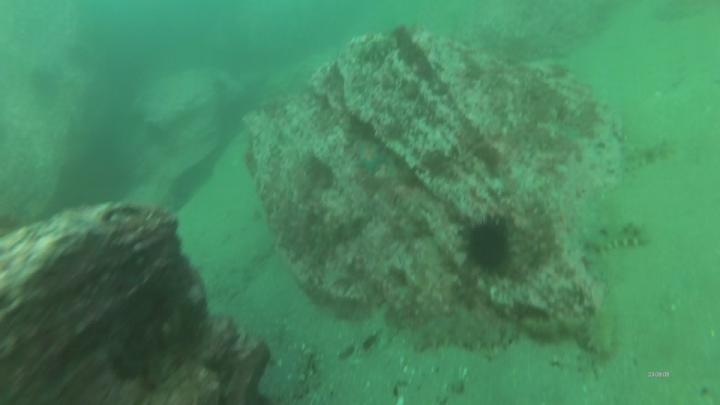echinus: (465, 218, 514, 283)
holothurian: (583, 296, 622, 363), (612, 137, 677, 175), (585, 220, 652, 256)
starfish: (352, 139, 391, 176)
